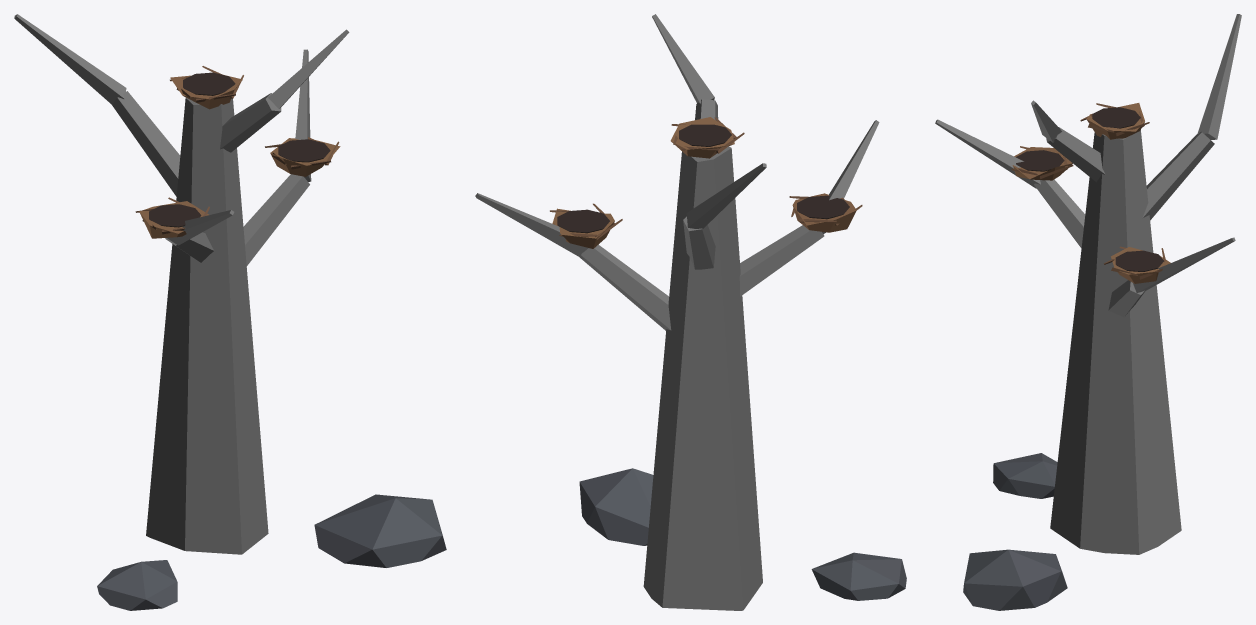
Rendered from lair-dead-tree.glb.
3 renders of one model, left to right at view 1: azimuth 30°, elevation 25°; view 2: azimuth 150°, elevation 25°; view 3: azimuth 270°, elevation 25°, orthographic. The views are drawn at different scales.
Parts seen in each view (by area): view 1: lair-dead-tree; view 2: lair-dead-tree; view 3: lair-dead-tree.
Boxes of the visible parts, left/top/right/bottom form: lair-dead-tree: left=14, top=14, right=446, bottom=610; lair-dead-tree: left=475, top=14, right=906, bottom=610; lair-dead-tree: left=935, top=14, right=1241, bottom=610.
Bounding box in the file's own units: 2.67 × 4.01 × 2.35.
